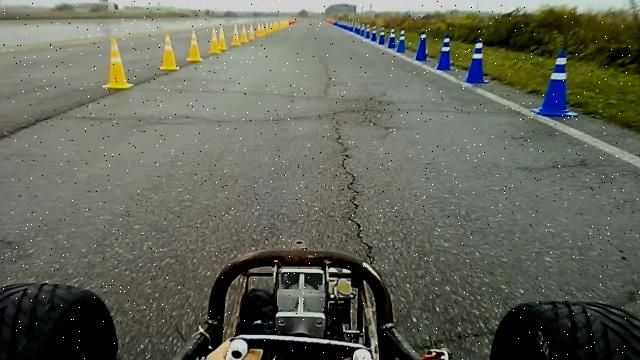blue cone: (531, 48, 578, 117), (463, 37, 490, 83), (436, 32, 455, 70), (415, 31, 428, 61), (396, 29, 407, 53), (387, 28, 397, 49), (378, 26, 386, 44), (371, 25, 378, 42)
yellow cone: (103, 38, 133, 90), (159, 32, 180, 71), (186, 29, 203, 62), (208, 27, 221, 54), (110, 38, 121, 62), (218, 26, 228, 50), (231, 24, 241, 46), (240, 24, 249, 44), (248, 24, 256, 40)
